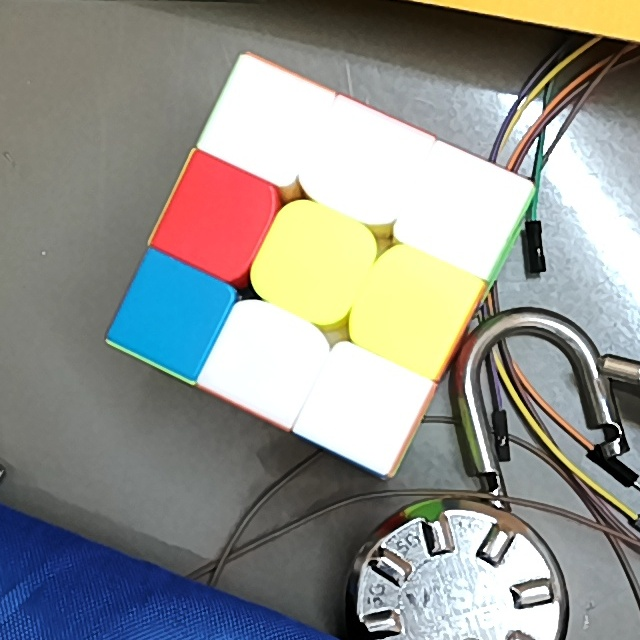tile: (276, 225, 352, 302), (428, 170, 501, 248), (377, 271, 450, 347), (181, 181, 255, 254), (328, 368, 400, 442), (229, 88, 302, 160), (331, 127, 405, 197), (230, 323, 301, 394), (138, 278, 208, 350)
